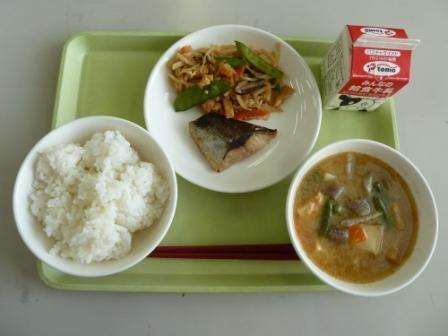Fish: (189, 107, 282, 177)
Milk: (320, 22, 420, 119)
Rice: (19, 120, 169, 274)
Soups: (284, 139, 434, 286)
pasta: (160, 31, 294, 118)
